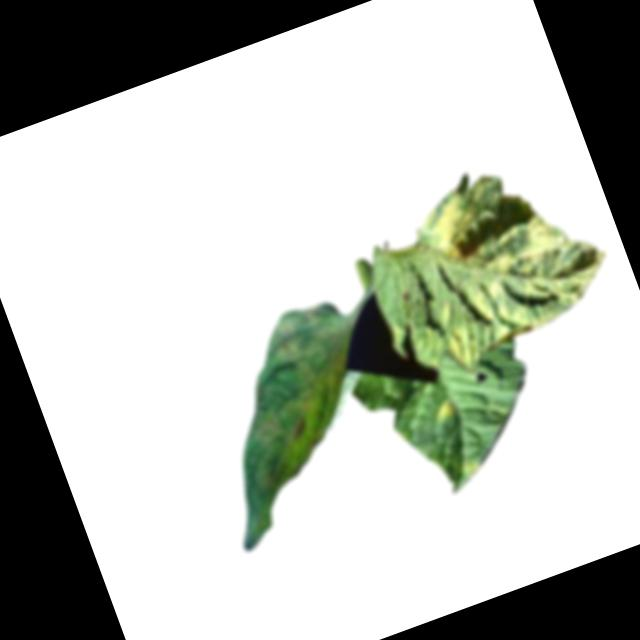Leaf_Mold: (390, 138, 620, 376), (268, 293, 373, 429), (430, 395, 462, 427)
